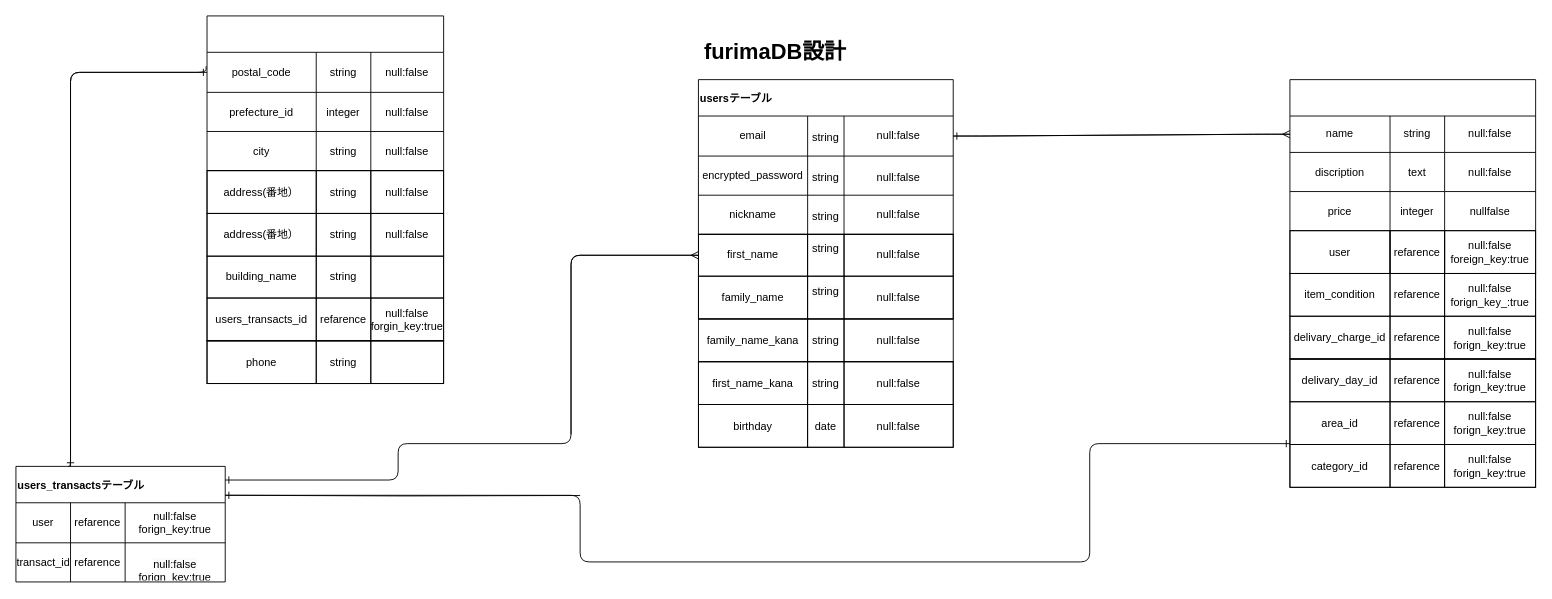
This 1552x599 diagram has some shape labels left out. Each missing label, with the box of its shape:
addressesテーブル: (206, 15, 444, 171)
itemsテーブル: (1289, 79, 1536, 273)
